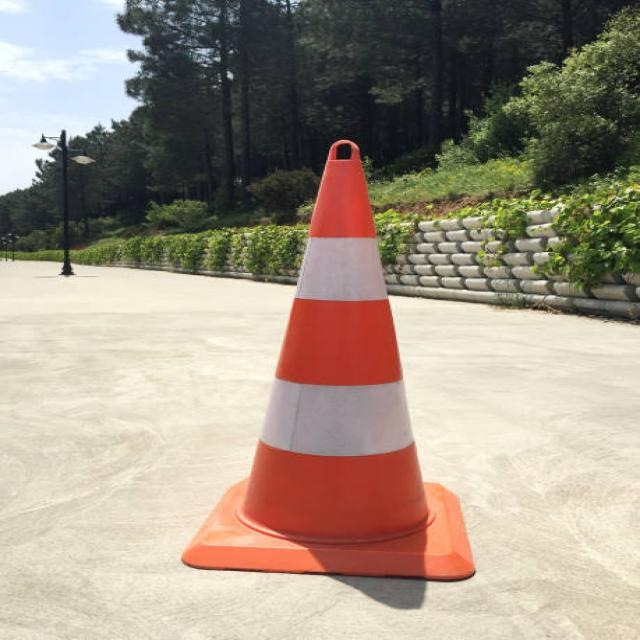Traffic Cone: (168, 106, 498, 602)
